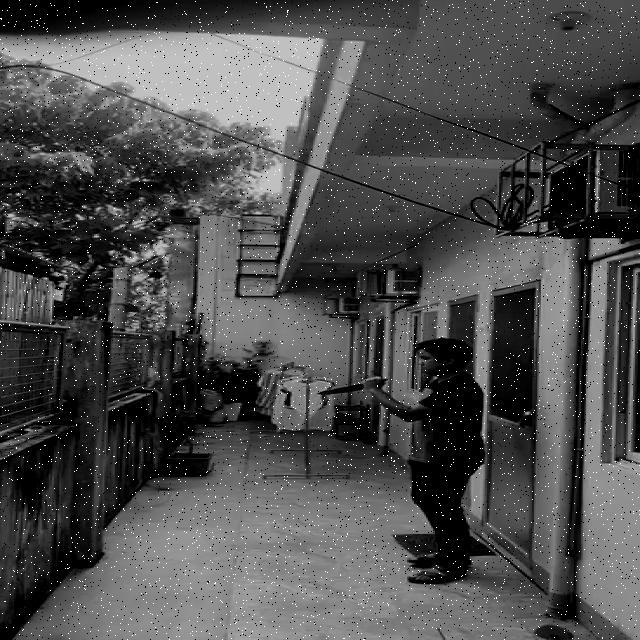knife: (317, 376, 388, 396)
non-violence: (318, 338, 486, 585)
